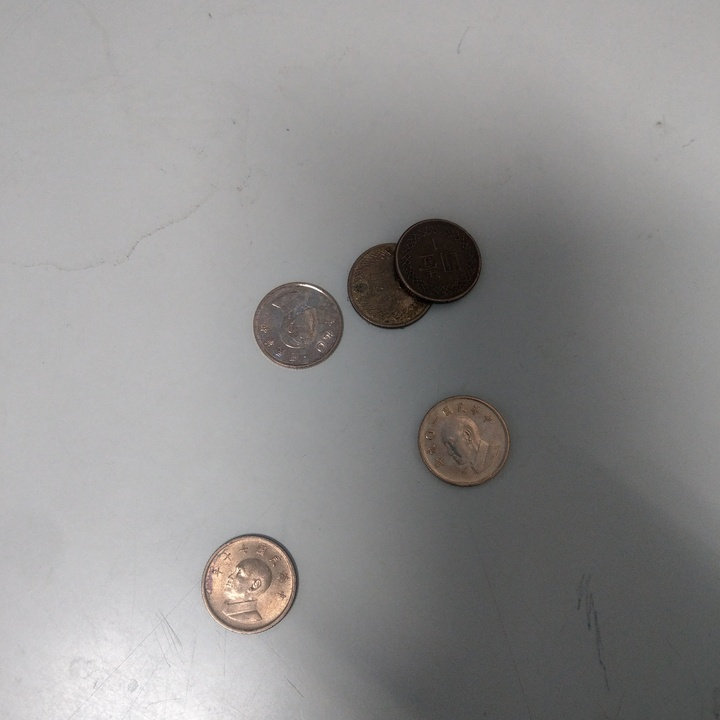1 dollar: (200, 533, 299, 633), (417, 397, 510, 489), (250, 280, 345, 370), (393, 216, 486, 303), (347, 242, 433, 330)
